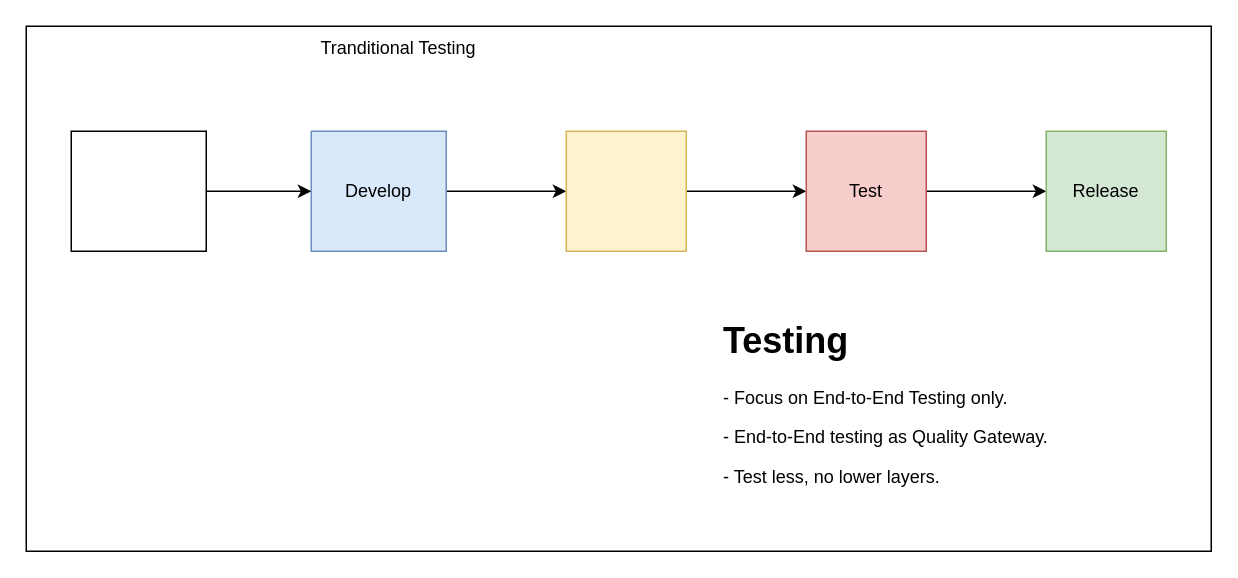
Some shapes in this 1238 by 578 pixel diagram are drawn without their labels. Here are the shapes that lost their labels. From the top down, the centre of each, then its label:
point (138, 190): Design
point (625, 190): Deploy
